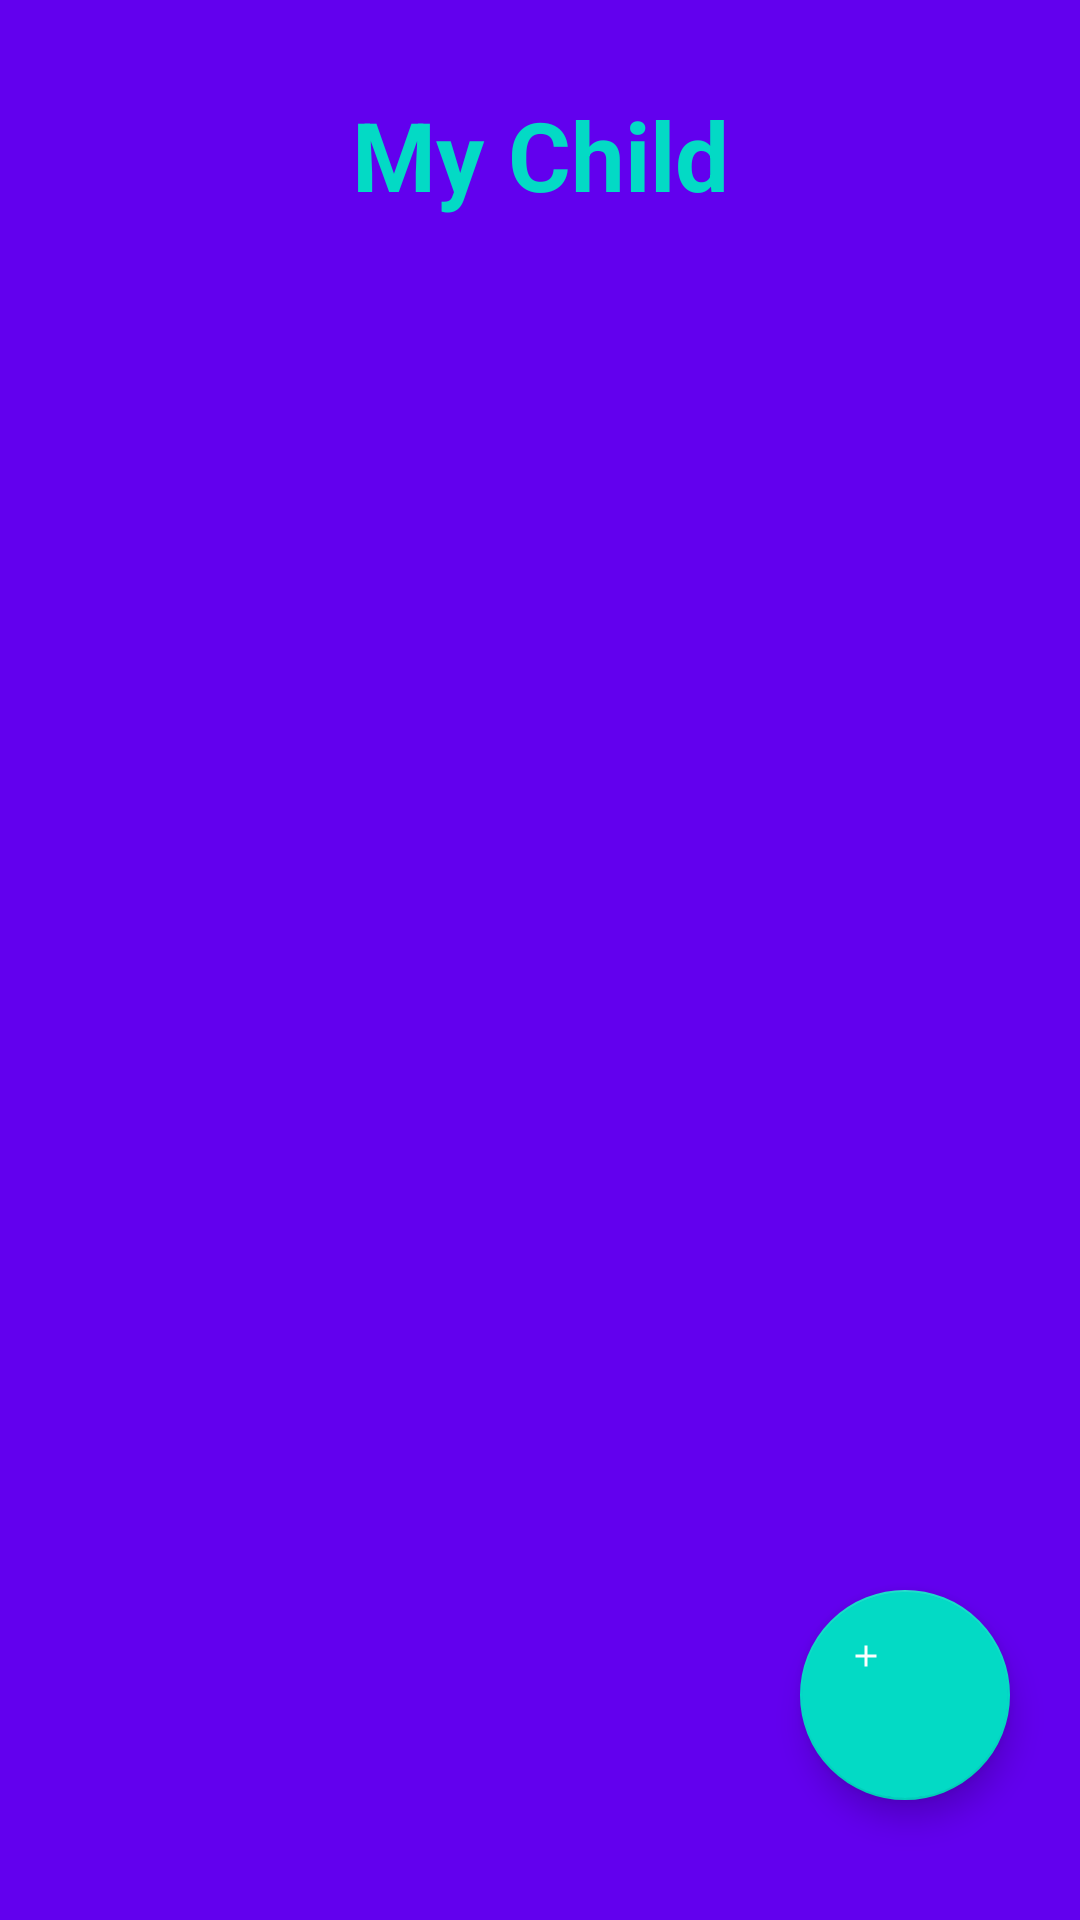

Where icons sit on this 1080 × 1920 app screen, as (x1, y1, x2, y2):
add: (800, 1590, 1010, 1800)
